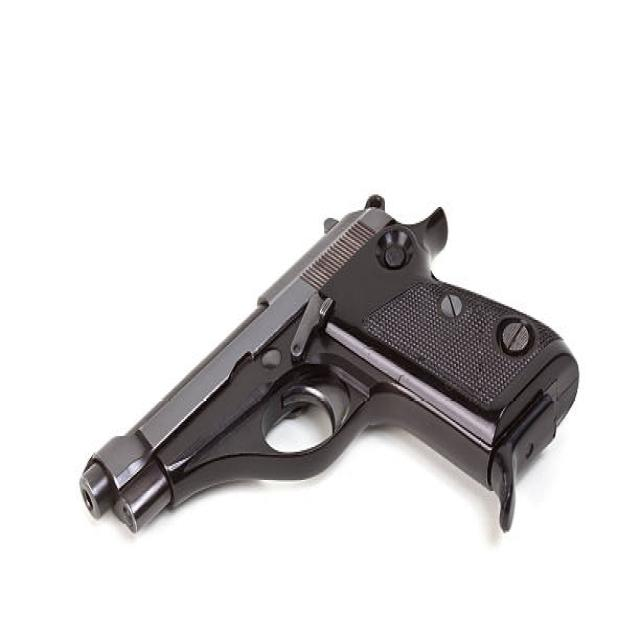pistol: (80, 180, 585, 547)
